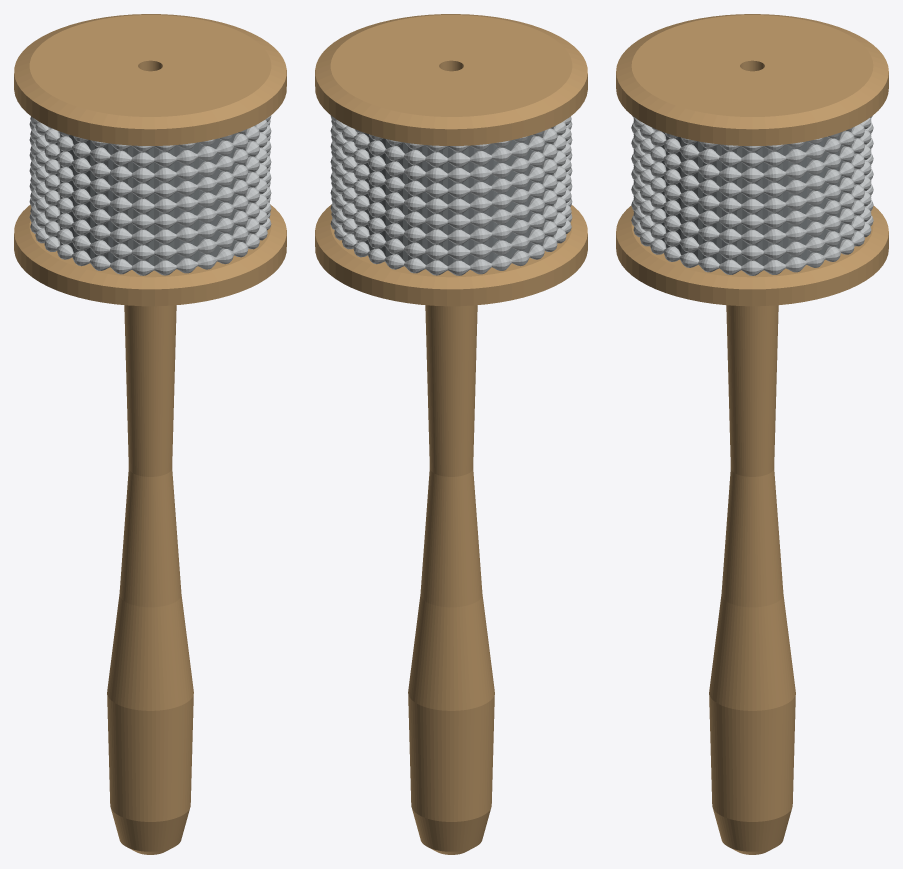
Rendered from full.glb.
3 views of the same model, side by side, from view 1: azimuth 30°, elevation 25°; view 2: azimuth 150°, elevation 25°; view 3: azimuth 270°, elevation 25° (orthographic).
Visible parts, largest first — view 1: Bulb wooden handle, Front wood flange, Rear wood flange, Corrugated metal backing, Continuous bead chain row 2, Continuous bead chain row 4, Continuous bead chain row 3, Continuous bead chain row 5, Continuous bead chain row 6, Continuous bead chain row 1, Continuous bead chain row 0, Continuous bead chain row 7 (+1 smaller); view 2: Bulb wooden handle, Front wood flange, Rear wood flange, Corrugated metal backing, Continuous bead chain row 2, Continuous bead chain row 4, Continuous bead chain row 3, Continuous bead chain row 5, Continuous bead chain row 6, Continuous bead chain row 1, Continuous bead chain row 0, Continuous bead chain row 7 (+1 smaller); view 3: Bulb wooden handle, Front wood flange, Rear wood flange, Corrugated metal backing, Continuous bead chain row 3, Continuous bead chain row 1, Continuous bead chain row 2, Continuous bead chain row 5, Continuous bead chain row 4, Continuous bead chain row 6, Continuous bead chain row 0, Continuous bead chain row 7 (+1 smaller).
Part boxes in pixels (box(x1,y1,x2,y2)): Bulb wooden handle: box(107, 305, 193, 854); Front wood flange: box(14, 14, 286, 145); Rear wood flange: box(14, 204, 286, 306); Corrugated metal backing: box(54, 133, 250, 265); Continuous bead chain row 2: box(29, 181, 271, 245); Continuous bead chain row 4: box(29, 151, 271, 214); Continuous bead chain row 3: box(29, 166, 271, 229); Continuous bead chain row 5: box(29, 135, 271, 198); Continuous bead chain row 6: box(29, 120, 271, 183); Continuous bead chain row 1: box(29, 197, 271, 260); Continuous bead chain row 0: box(29, 212, 271, 275); Continuous bead chain row 7: box(30, 115, 271, 167); Bulb wooden handle: box(408, 305, 494, 854); Front wood flange: box(315, 14, 587, 145); Rear wood flange: box(315, 204, 587, 306); Corrugated metal backing: box(351, 133, 547, 265); Continuous bead chain row 2: box(330, 181, 572, 245); Continuous bead chain row 4: box(330, 151, 572, 214); Continuous bead chain row 3: box(330, 166, 572, 229); Continuous bead chain row 5: box(330, 135, 572, 198); Continuous bead chain row 6: box(330, 120, 572, 183); Continuous bead chain row 1: box(330, 197, 572, 260); Continuous bead chain row 0: box(330, 212, 572, 275); Continuous bead chain row 7: box(330, 115, 571, 167); Bulb wooden handle: box(709, 305, 795, 854); Front wood flange: box(616, 14, 888, 145); Rear wood flange: box(616, 206, 888, 306); Corrugated metal backing: box(649, 131, 855, 265); Continuous bead chain row 3: box(631, 164, 873, 229); Continuous bead chain row 1: box(631, 195, 873, 260); Continuous bead chain row 2: box(631, 180, 873, 245); Continuous bead chain row 5: box(631, 133, 873, 198); Continuous bead chain row 4: box(631, 149, 873, 214); Continuous bead chain row 6: box(631, 118, 873, 183); Continuous bead chain row 0: box(631, 211, 873, 275); Continuous bead chain row 7: box(632, 116, 872, 168).
Bounding box in the file's own units: 0.088 × 0.278 × 0.088.
